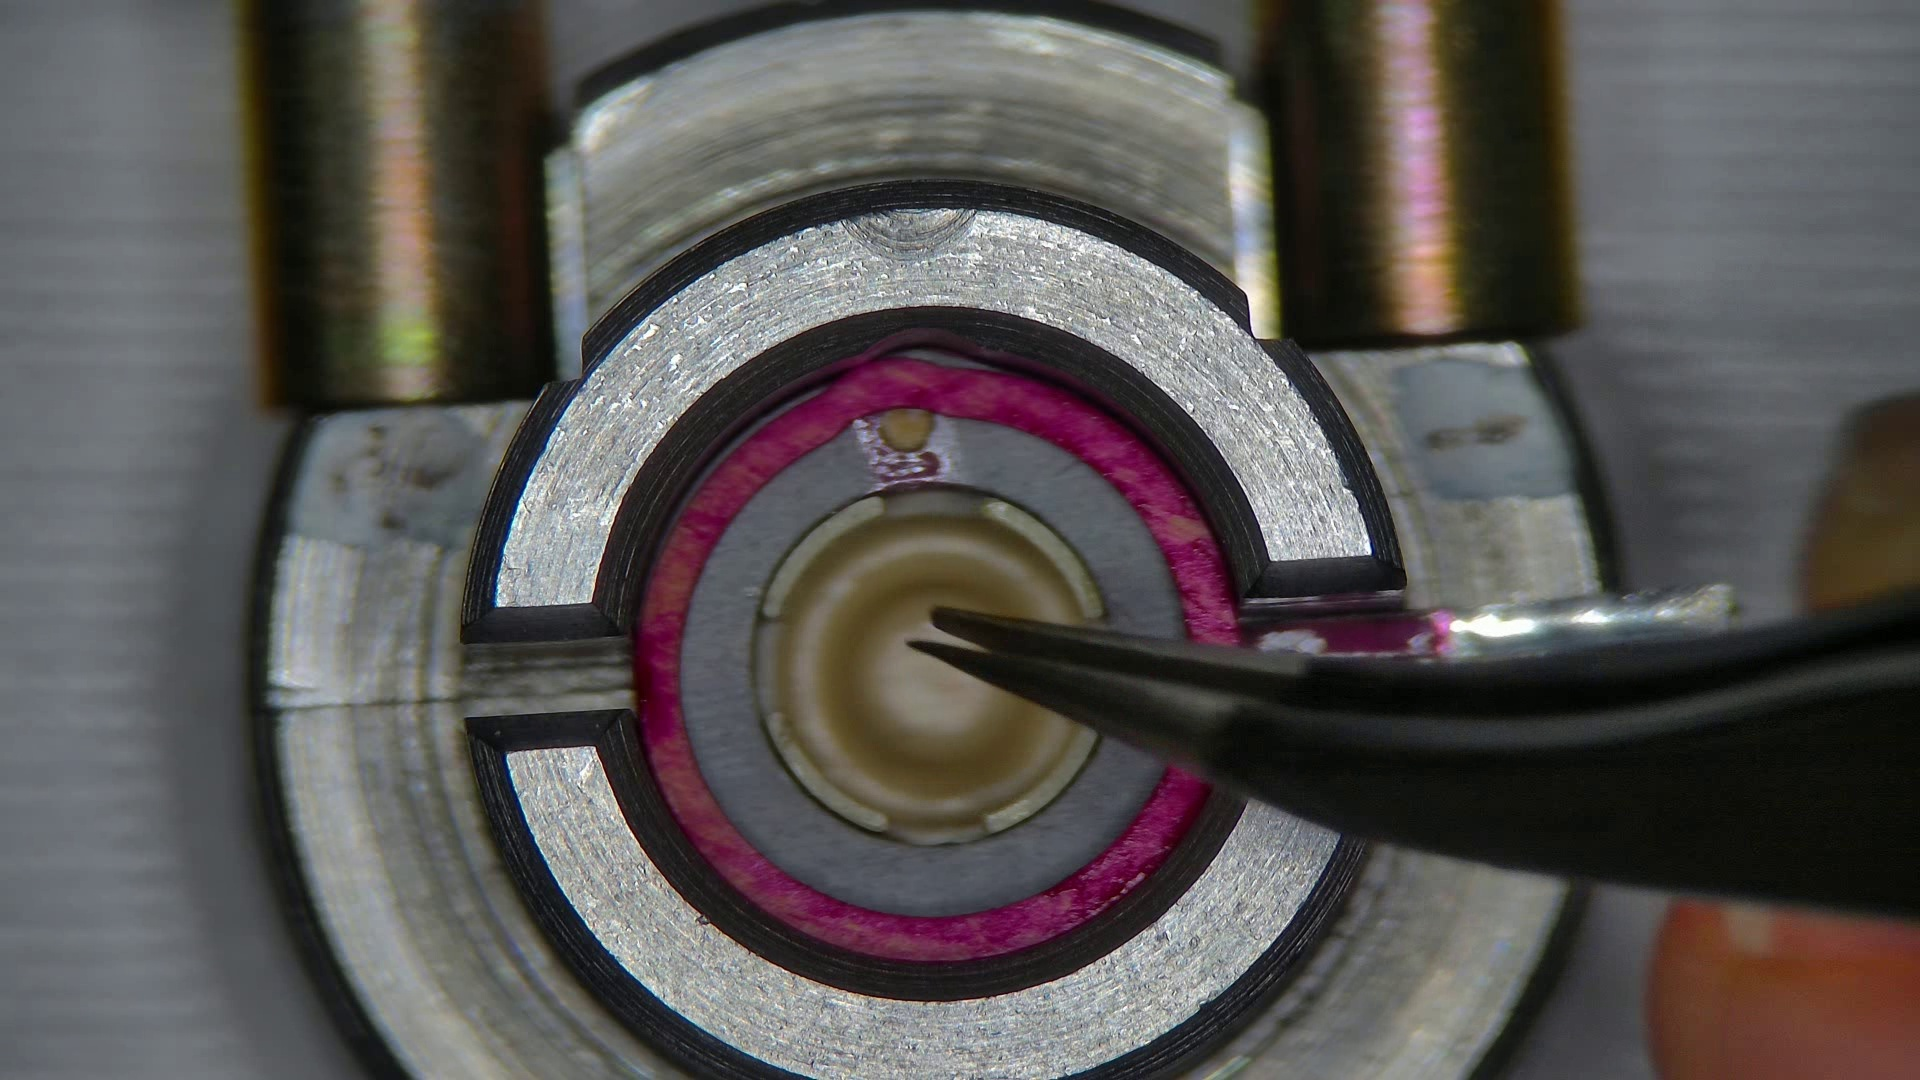GreyOring: (638, 359, 1232, 960)
YellowOring: (682, 415, 1164, 913)
